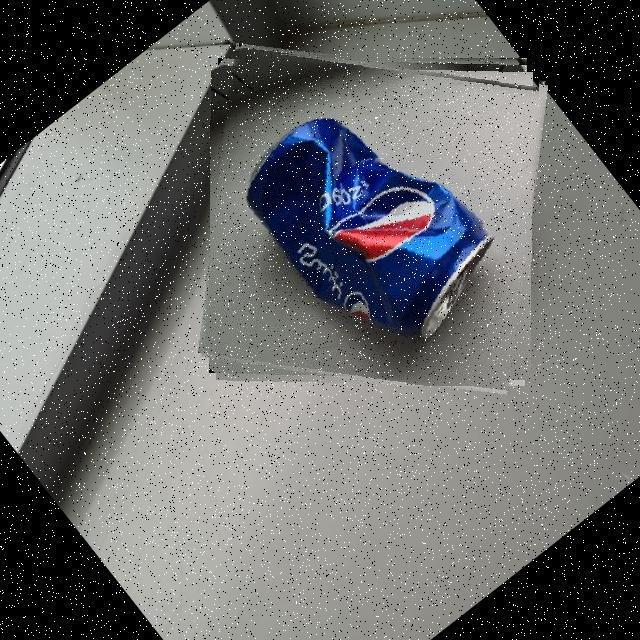recyclable: (206, 52, 539, 386)
